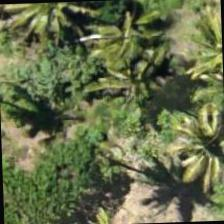Kelapa_Sawit: (164, 105, 223, 198), (5, 0, 97, 56)
